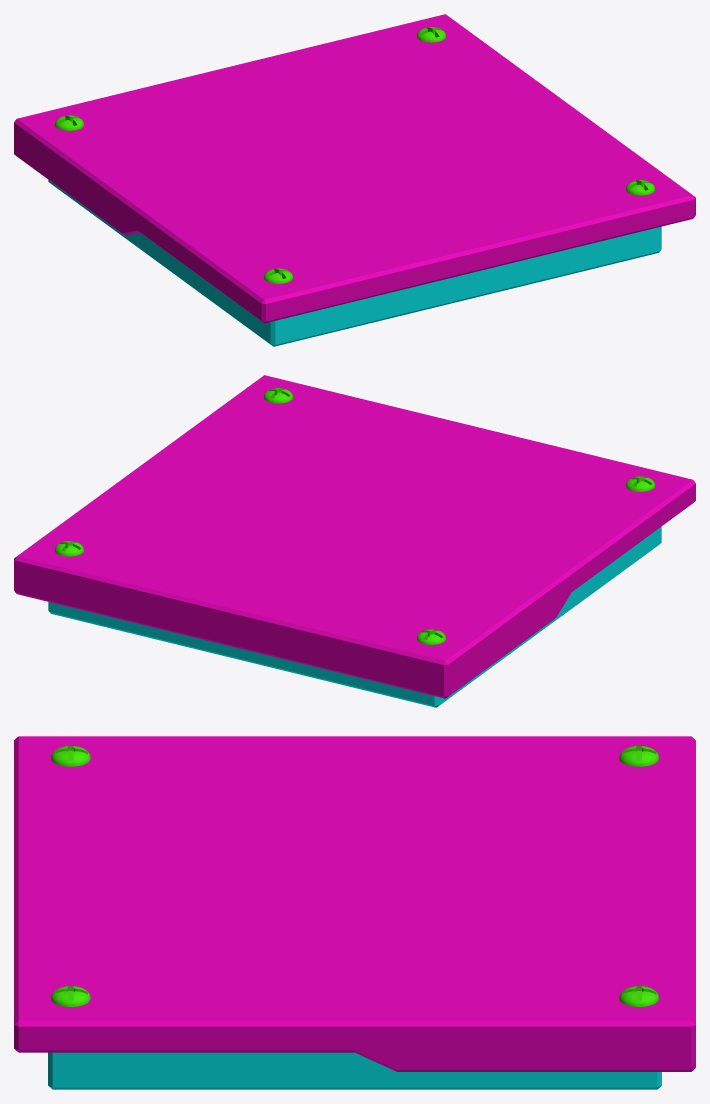
The model's file is NewMovingPlatform.fbx.
3 views of the same model, one above another, from view 1: azimuth 30°, elevation 25°; view 2: azimuth 150°, elevation 25°; view 3: azimuth 270°, elevation 25° (orthographic). The views are drawn at different scales.
Visible parts, largest first — view 1: Platform; view 2: Platform; view 3: Platform.
Boxes of the visible parts, left/top/right/bottom form: Platform: left=14, top=14, right=695, bottom=346; Platform: left=14, top=375, right=695, bottom=707; Platform: left=14, top=736, right=695, bottom=1089.
Size of the model in its own units: 600 by 89.36 by 600.
